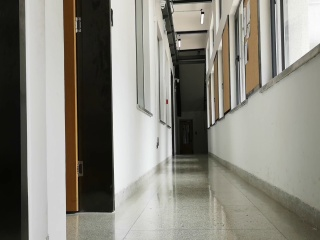room: (56, 3, 118, 219)
